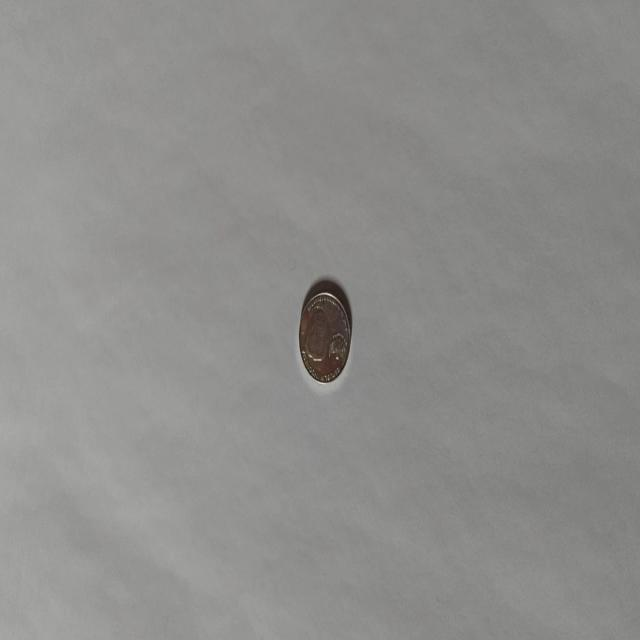seratus rupiah: (298, 288, 351, 384)
